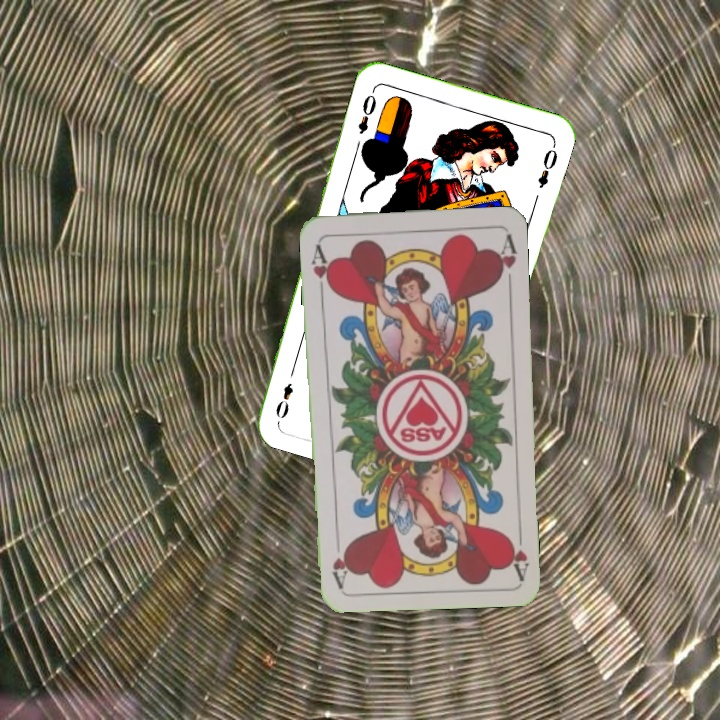EO: (354, 85, 379, 137)
HA: (503, 521, 531, 580), (308, 238, 335, 297)
